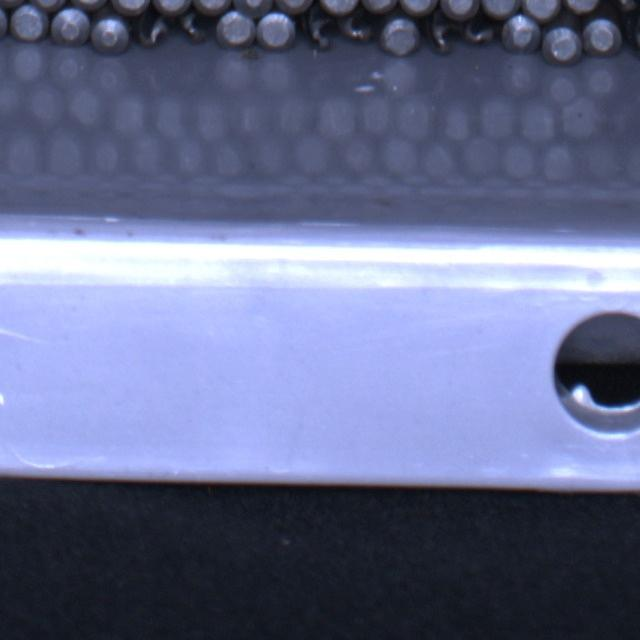tool: (50, 7, 90, 47), (501, 14, 541, 54), (90, 15, 129, 56), (216, 8, 254, 48), (584, 18, 622, 58), (382, 16, 419, 56), (258, 10, 296, 48), (542, 25, 580, 63), (11, 2, 49, 39), (521, 0, 561, 20), (440, 0, 480, 19), (479, 0, 521, 18), (230, 0, 271, 16), (316, 0, 360, 14), (110, 0, 152, 14), (191, 0, 231, 14), (398, 1, 440, 14), (272, 0, 314, 13), (152, 1, 194, 14), (560, 1, 602, 14), (360, 1, 400, 12), (67, 0, 110, 10), (27, 0, 68, 10), (0, 3, 7, 41), (0, 0, 29, 6)
tool_b: (298, 13, 338, 55), (422, 16, 458, 54), (339, 12, 377, 46), (176, 10, 212, 44), (461, 18, 497, 50), (134, 16, 170, 48), (606, 0, 640, 12)
